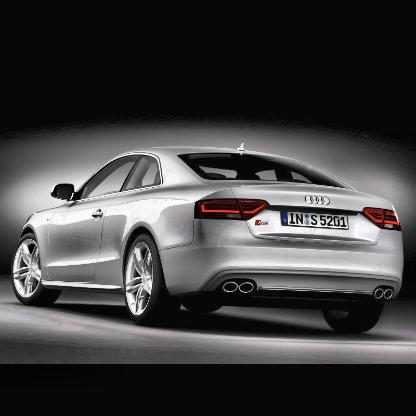Audi S5 Coupe 2012: (12, 142, 407, 340)
